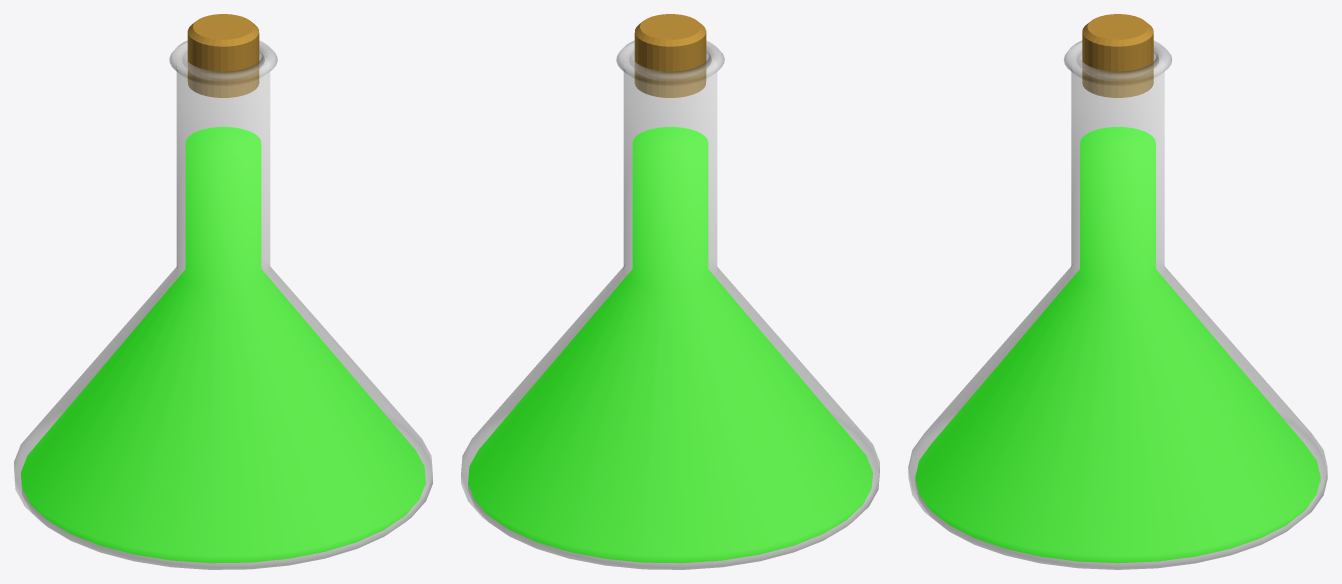
File: Chemical_Bottle.fbx
The picture shows the model from 3 angles, left to right: view 1: azimuth 30°, elevation 25°; view 2: azimuth 150°, elevation 25°; view 3: azimuth 270°, elevation 25°; orthographic projection.
Visible parts, largest first — view 1: Cylinder, Cylinder.001; view 2: Cylinder, Cylinder.001; view 3: Cylinder, Cylinder.001.
Part boxes in pixels (x1,y1,x2,y2): Cylinder: (14, 40, 432, 569); Cylinder.001: (187, 14, 259, 97); Cylinder: (461, 40, 879, 569); Cylinder.001: (634, 14, 706, 97); Cylinder: (908, 40, 1327, 569); Cylinder.001: (1082, 14, 1153, 97).
Bounding box in the file's own units: 248 × 299 × 248.
